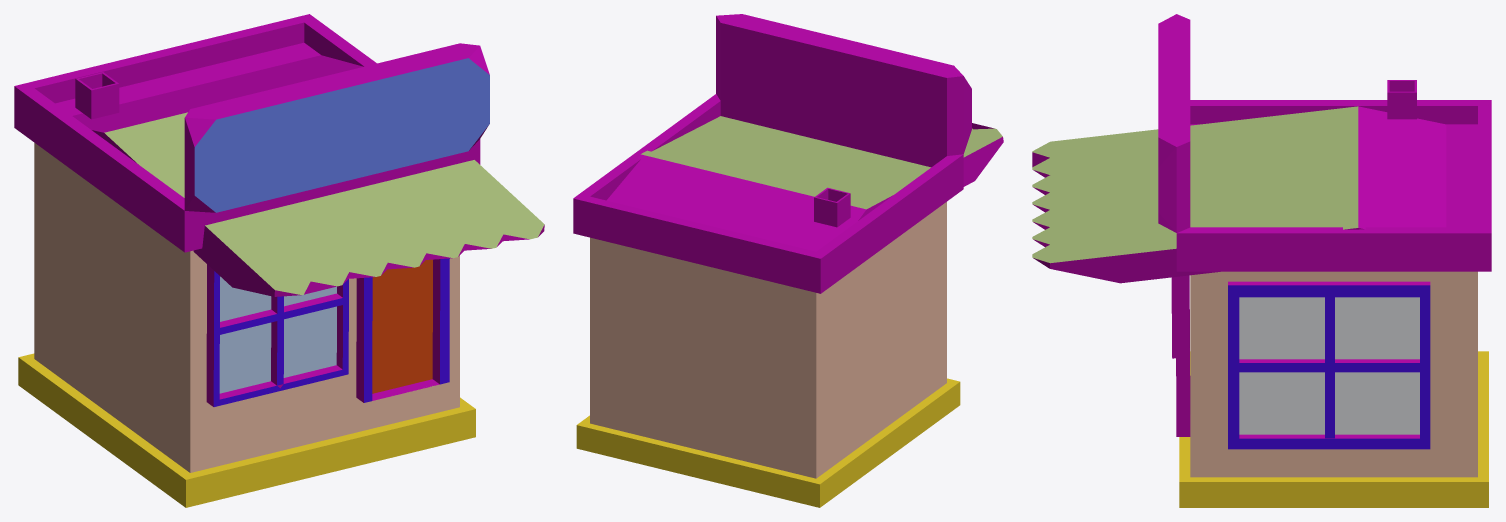
Rendered from Toko Kue.fbx.
3 views of the same model, side by side, from view 1: azimuth 30°, elevation 25°; view 2: azimuth 150°, elevation 25°; view 3: azimuth 270°, elevation 25° (orthographic). The views are drawn at different scales.
Parts seen in each view (by area): view 1: Cube, Cube.002, Cube.003; view 2: Cube, Cube.002; view 3: Cube, Cube.002.
Part boxes in pixels (box(x1,y1,x2,y2)): Cube: box(14, 14, 544, 507); Cube.002: box(104, 112, 544, 294); Cube.003: box(194, 58, 489, 212); Cube: box(573, 14, 1003, 507); Cube.002: box(641, 116, 1002, 209); Cube: box(1032, 14, 1491, 507); Cube.002: box(1032, 106, 1358, 263).
Bounding box in the file's own units: 293 × 375 × 427.
